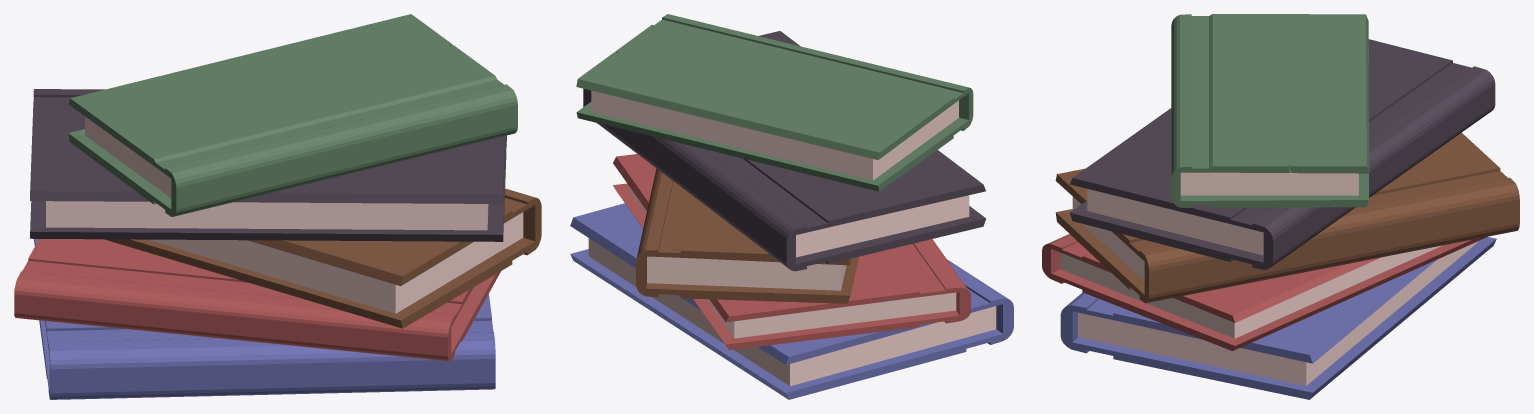
The model's file is Animated Lamp213 BOOKS ONLY.fbx.
3 renders of one model, left to right at view 1: azimuth 30°, elevation 25°; view 2: azimuth 150°, elevation 25°; view 3: azimuth 270°, elevation 25°, orthographic. The views are drawn at different scales.
Parts seen in each view (by area): view 1: Books; view 2: Books; view 3: Books.
Part boxes in pixels (bbox=[...]): Books: bbox=[14, 14, 541, 399]; Books: bbox=[570, 14, 1013, 399]; Books: bbox=[1042, 14, 1519, 399].
Bounding box in the file's own units: 30.34 × 14.66 × 29.04.
